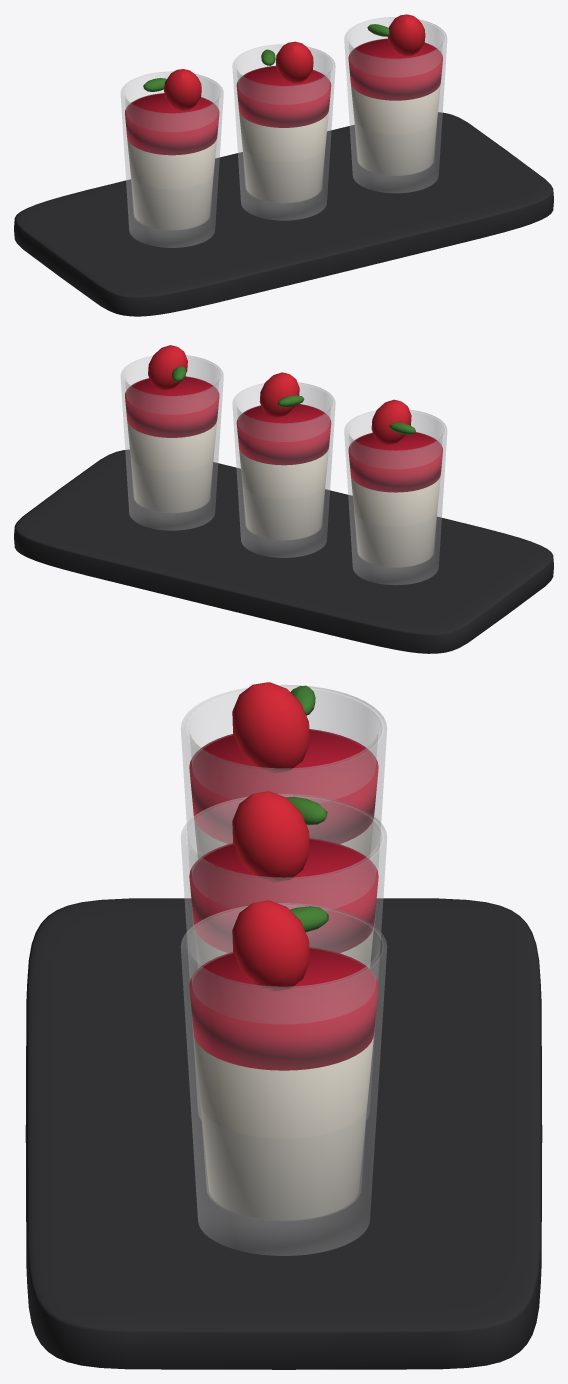
The model's file is panna-cotta-de-morango.glb.
3 views of the same model, one above another, from view 1: azimuth 30°, elevation 25°; view 2: azimuth 150°, elevation 25°; view 3: azimuth 270°, elevation 25° (orthographic). The views are drawn at different scales.
Parts seen in each view (by area): view 1: panna-cotta-de-morango; view 2: panna-cotta-de-morango; view 3: panna-cotta-de-morango.
Boxes of the visible parts, x1,y1,x2,y2 form: panna-cotta-de-morango: (14,14,553,316); panna-cotta-de-morango: (14,345,553,653); panna-cotta-de-morango: (25,682,542,1369).
Size of the model in its own units: 0.24 by 0.0946 by 0.12.
